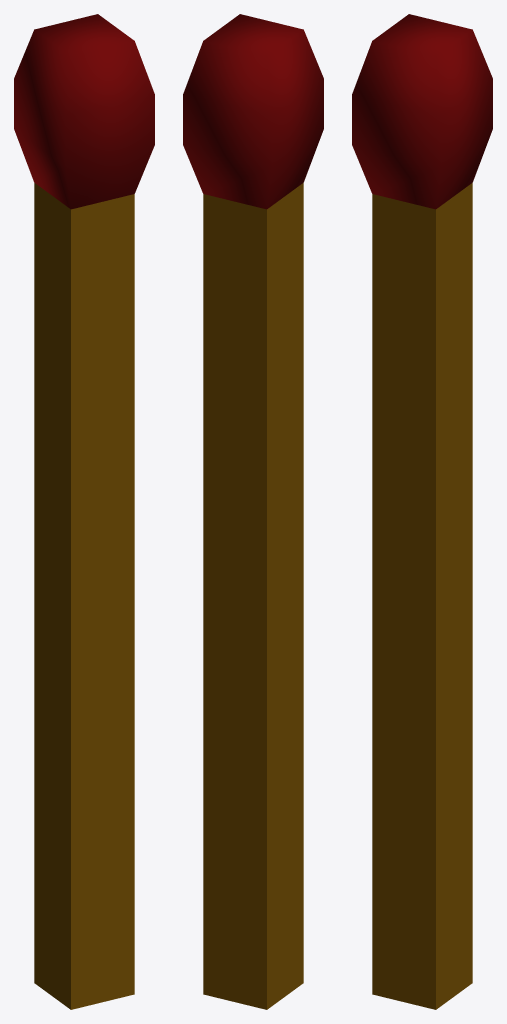
File: Match.fbx
3 views of the same model, side by side, from view 1: azimuth 30°, elevation 25°; view 2: azimuth 150°, elevation 25°; view 3: azimuth 330°, elevation 25° (orthographic).
Visible parts, largest first — view 1: Match:pCube1; view 2: Match:pCube1; view 3: Match:pCube1.
Part boxes in pixels (x1=…): Match:pCube1: x1=14, y1=14, x2=154, y2=1009; Match:pCube1: x1=183, y1=14, x2=323, y2=1009; Match:pCube1: x1=352, y1=14, x2=492, y2=1009.
Size of the model in its own units: 0.07 by 0.7147 by 0.07.
